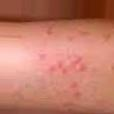Ants: (70, 55, 84, 72)
